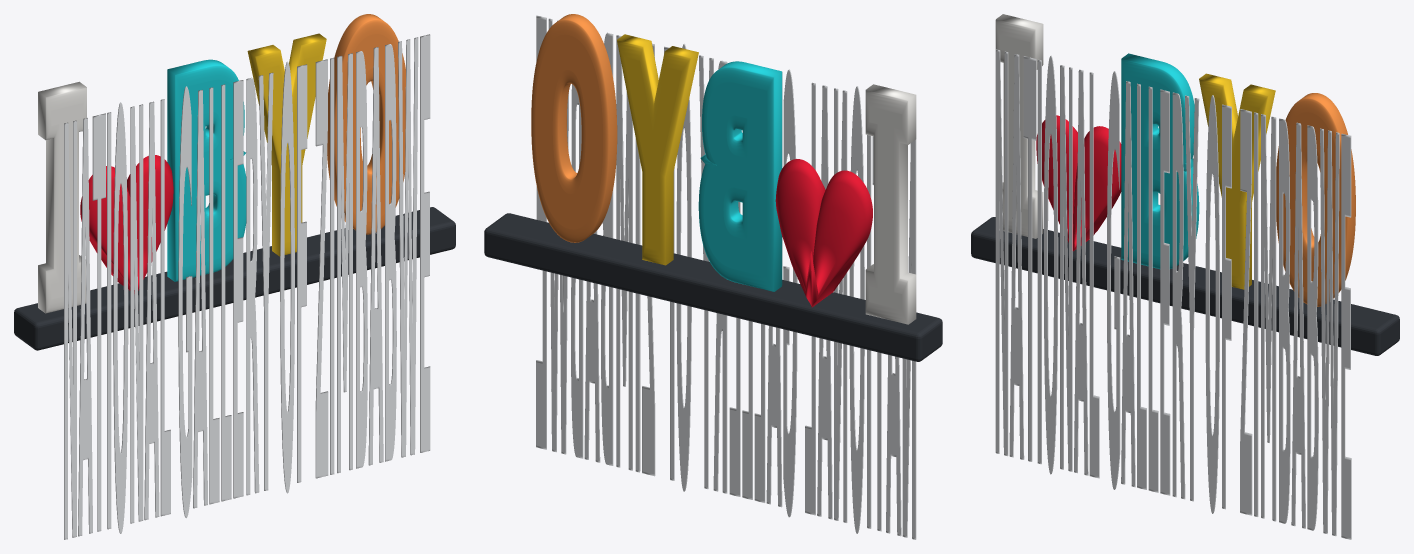
Rendered from i-love-byo.glb.
3 views of the same model, side by side, from view 1: azimuth 30°, elevation 25°; view 2: azimuth 150°, elevation 25°; view 3: azimuth 330°, elevation 25° (orthographic). The views are drawn at different scales.
Parts seen in each view (by area): view 1: NATIONAL GALLERY OF ZIMBABWE, Upright turquoise B, Single black display plinth, Upright ivory slab serif I, Upright orange O, Upright golden Y, Large glossy three dimensional red heart; view 2: NATIONAL GALLERY OF ZIMBABWE, Single black display plinth, Upright turquoise B, Upright orange O, Upright golden Y, Large glossy three dimensional red heart, Upright ivory slab serif I; view 3: NATIONAL GALLERY OF ZIMBABWE, Single black display plinth, Upright turquoise B, Upright orange O, Upright golden Y, Upright ivory slab serif I, Large glossy three dimensional red heart.
Boxes of the visible parts, x1,y1,x2,y2 form: NATIONAL GALLERY OF ZIMBABWE: (64, 34, 430, 539); Upright turquoise B: (167, 59, 246, 281); Single black display plinth: (14, 207, 455, 350); Upright ivory slab serif I: (38, 81, 86, 313); Upright orange O: (327, 14, 405, 234); Upright golden Y: (247, 33, 326, 256); Large glossy three dimensional red heart: (80, 155, 173, 293); NATIONAL GALLERY OF ZIMBABWE: (536, 15, 916, 539); Single black display plinth: (484, 213, 942, 361); Upright turquoise B: (698, 61, 782, 291); Upright orange O: (531, 14, 617, 242); Upright golden Y: (617, 34, 698, 265); Large glossy three dimensional red heart: (775, 159, 872, 307); Upright ivory slab serif I: (865, 84, 916, 324); NATIONAL GALLERY OF ZIMBABWE: (995, 49, 1351, 539); Single black display plinth: (971, 217, 1399, 355); Upright turquoise B: (1121, 53, 1199, 268); Upright orange O: (1276, 93, 1355, 306); Upright golden Y: (1199, 73, 1275, 289); Upright ivory slab serif I: (995, 14, 1043, 238); Large glossy three dimensional red heart: (1036, 115, 1121, 251).
Size of the model in its own units: 6.95 by 7.02 by 0.732.
